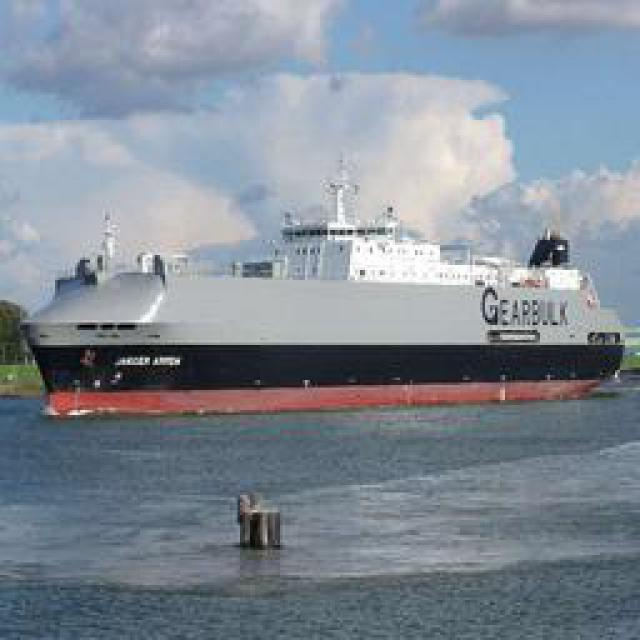Ship: (10, 224, 635, 417)
